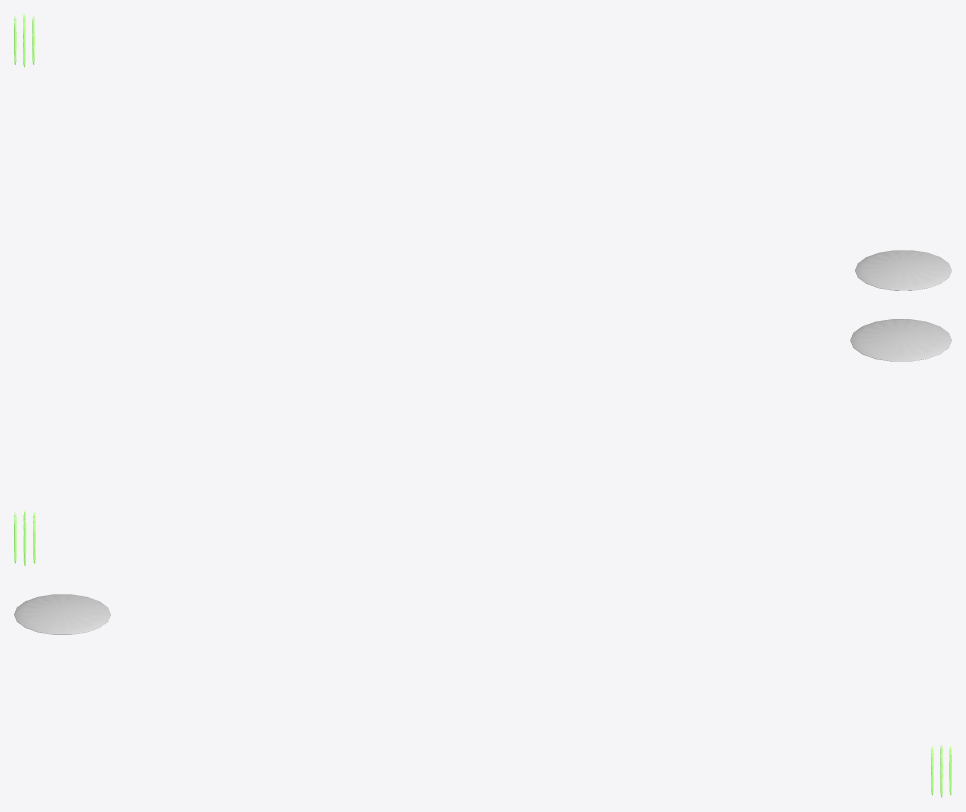
The model's file is farm_crop_wheat_s1_v3.glb.
3 views of the same model, one above another, from view 1: azimuth 90°, elevation 25°; view 2: azimuth 150°, elevation 25°; view 3: azimuth 270°, elevation 25° (orthographic). The views are drawn at different scales.
Visible parts, largest first — view 1: soil.004; view 2: soil.004; view 3: soil.004.
Boxes of the visible parts, bbox=[...] form: soil.004: bbox=[855, 250, 951, 290]; soil.004: bbox=[850, 319, 951, 361]; soil.004: bbox=[14, 594, 110, 634].
Size of the model in its own units: 2.94 by 0.3956 by 5.34.
